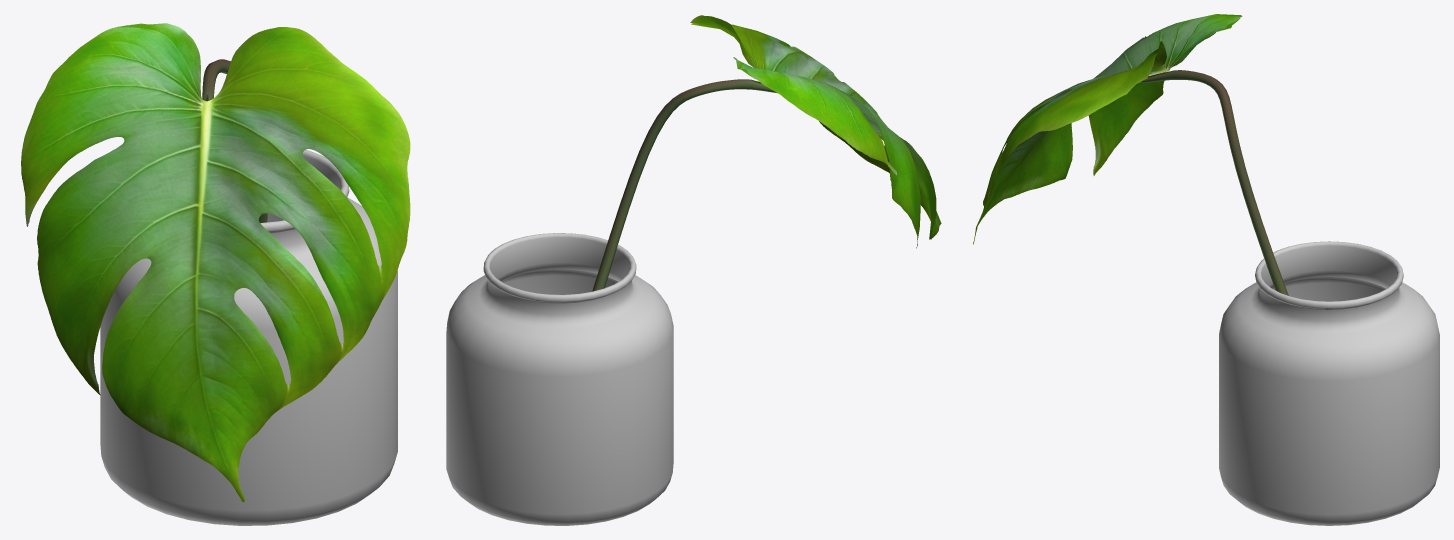
File: MZRa_Monstera_B03.fbx
The picture shows the model from 3 angles, left to right: view 1: azimuth 30°, elevation 25°; view 2: azimuth 150°, elevation 25°; view 3: azimuth 270°, elevation 25°; orthographic projection. The views are drawn at different scales.
Visible parts, largest first — view 1: Plane.011, Circle.005, NurbsPath.003; view 2: Circle.005, Plane.011, NurbsPath.003; view 3: Circle.005, Plane.011, NurbsPath.003.
Part boxes in pixels (x1,y1,x2,y2): Plane.011: (21,23,410,502); Circle.005: (100,150,397,525); NurbsPath.003: (202,59,267,222); Circle.005: (446,233,673,525); Plane.011: (690,15,941,248); NurbsPath.003: (592,79,777,291); Circle.005: (1219,241,1439,525); Plane.011: (973,14,1242,244); NurbsPath.003: (1140,70,1288,295).
Bounding box in the file's own units: 156 × 181 × 185.
